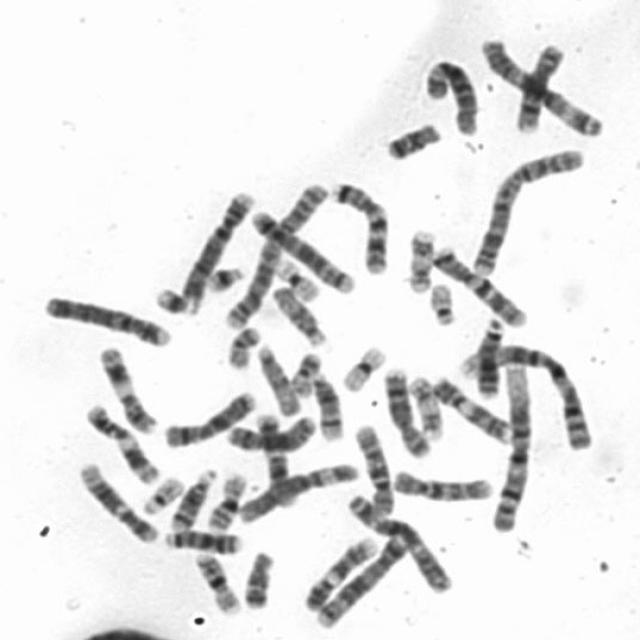A1: (453, 334, 597, 454), (483, 351, 536, 534)
A2: (217, 173, 331, 330), (464, 140, 588, 277)
A3: (472, 30, 607, 138), (339, 486, 454, 594)
B4: (172, 182, 257, 306), (36, 287, 175, 349)
B5: (242, 201, 358, 296), (308, 529, 411, 629)
C10: (348, 415, 398, 517), (384, 461, 496, 503)
C11: (77, 395, 162, 486), (92, 338, 160, 436)
C12: (72, 455, 160, 545), (250, 405, 301, 508)
C6: (232, 454, 362, 525), (416, 51, 482, 137)
C7: (425, 238, 529, 329), (323, 172, 392, 276)
C8: (509, 36, 569, 134), (376, 360, 435, 459)
C9: (423, 367, 514, 446), (296, 530, 380, 614)
D13: (470, 311, 507, 400), (157, 521, 245, 555)
D14: (162, 461, 220, 533), (304, 366, 348, 442)
D15: (266, 279, 330, 348), (249, 337, 303, 418)
E16: (187, 544, 244, 617), (200, 466, 250, 533)
E17: (402, 368, 446, 442), (398, 220, 438, 294)
E18: (378, 114, 445, 162), (237, 544, 277, 611)
F19: (333, 338, 389, 392), (266, 250, 322, 302)
F20: (219, 318, 264, 371), (284, 344, 325, 398)
G21: (148, 279, 196, 316), (200, 257, 247, 294)
G22: (134, 468, 186, 515), (421, 274, 459, 328)
X: (156, 383, 258, 449), (220, 408, 319, 454)
